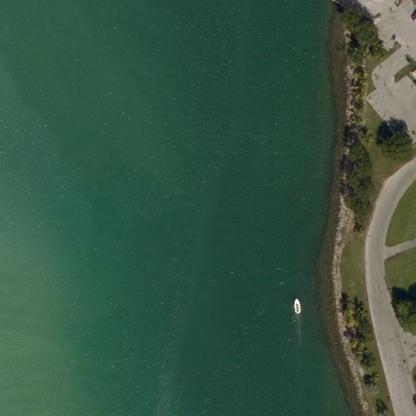ship: (292, 297, 300, 312)
